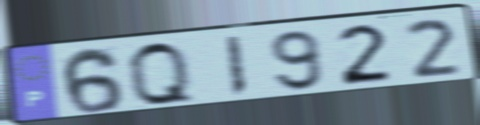2: (333, 22, 399, 89), (401, 17, 465, 81)
6: (57, 45, 128, 116)
9: (267, 28, 324, 93)
I: (222, 33, 250, 99)
Q: (124, 39, 200, 109)
